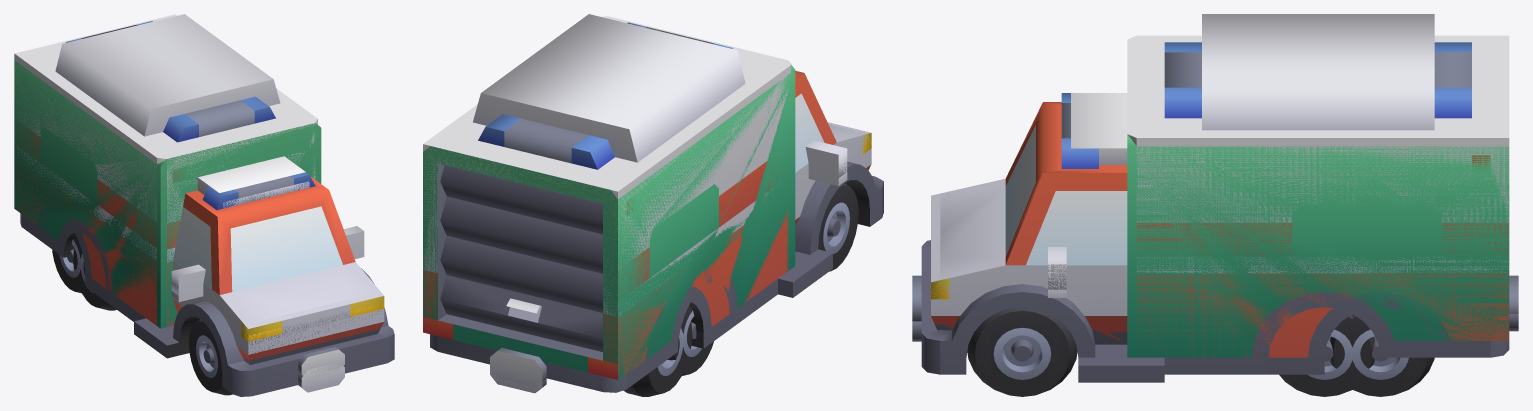
File: lp-car.glb
The picture shows the model from 3 angles, left to right: view 1: azimuth 30°, elevation 25°; view 2: azimuth 150°, elevation 25°; view 3: azimuth 270°, elevation 25°; orthographic projection. The views are drawn at different scales.
Visible parts, largest first — view 1: body (×2), wheel-front-right, wheel-back-right (×2); view 2: body (×2), door, wheel-back-right (×2), wheel-front-right; view 3: body (×2), wheel-front-left, wheel-back-left (×2).
Part boxes in pixels (x1,y1,x2,y2): body (×2): (14,14,394,396); wheel-front-right: (189,319,232,395); wheel-back-right (×2): (52,235,116,310); body (×2): (423,14,883,393); door: (440,165,602,351); wheel-back-right (×2): (623,305,713,396); wheel-front-right: (818,183,858,271); body (×2): (912,14,1518,382); wheel-front-left: (967,307,1077,396); wheel-back-left (×2): (1279,314,1434,396).
Bounding box in the file's own units: 1.5 × 1.8 × 3.25.
Materials: 1 (1 with a texture image).
